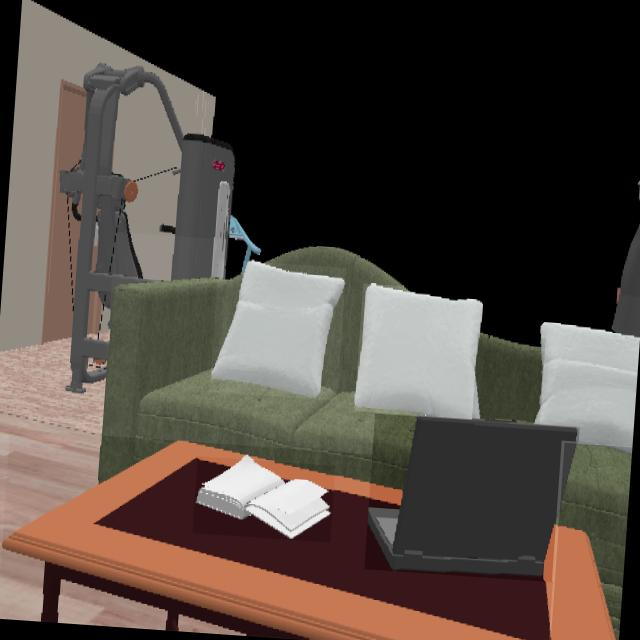book: (194, 459, 332, 539)
laptop: (369, 418, 578, 579)
person: (613, 223, 640, 338)
pillow: (210, 262, 345, 399), (354, 284, 483, 419), (533, 323, 640, 457)
sink: (558, 444, 631, 640), (475, 334, 541, 423)
sofa: (98, 246, 420, 490), (556, 443, 631, 640), (475, 334, 541, 422)
table: (1, 441, 619, 640)
